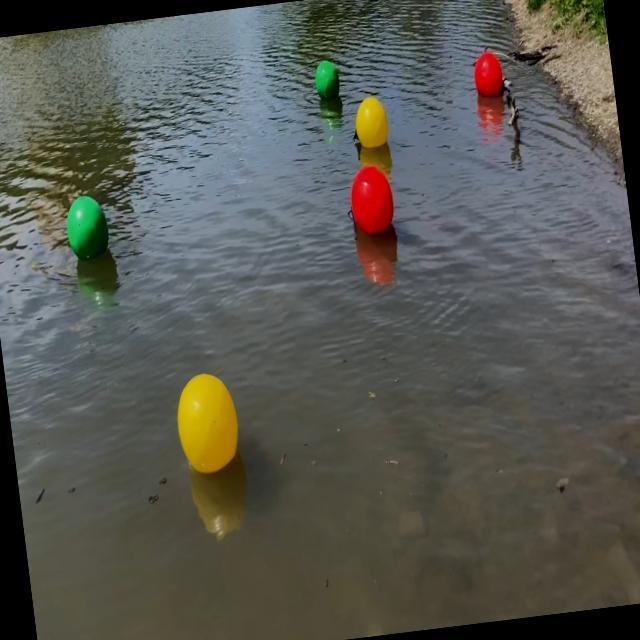buoy: (170, 366, 244, 478), (346, 160, 398, 237), (60, 192, 114, 262), (349, 94, 390, 149), (471, 46, 507, 100), (311, 58, 341, 103)
